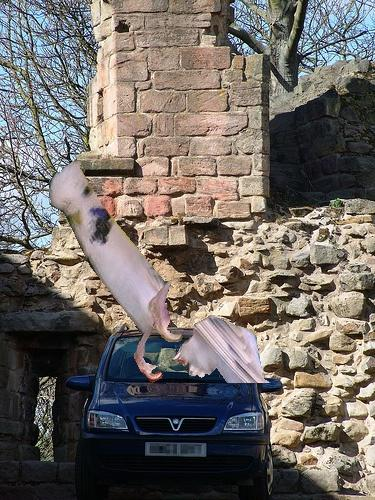tampered: (50, 160, 272, 383)
